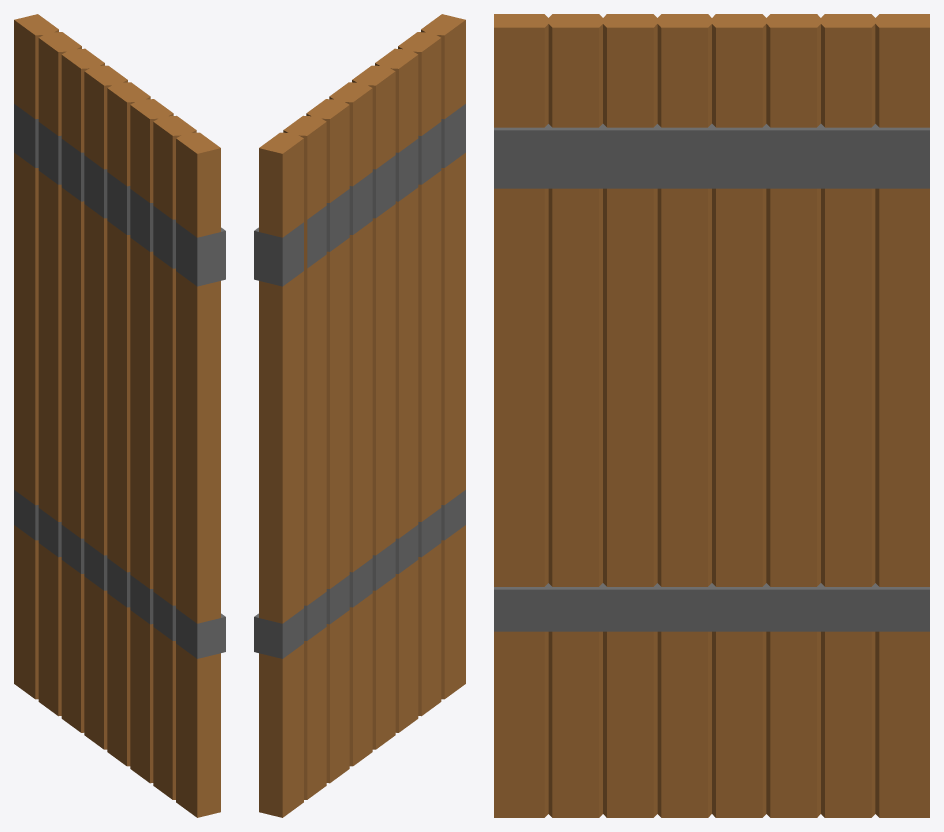
File: OldDoor.fbx
The picture shows the model from 3 angles, left to right: view 1: azimuth 30°, elevation 25°; view 2: azimuth 150°, elevation 25°; view 3: azimuth 270°, elevation 25°; orthographic projection. The views are drawn at different scales.
Visible parts, largest first — view 1: dood old; view 2: dood old; view 3: dood old.
Boxes of the visible parts, left/top/right/bottom form: dood old: left=14, top=14, right=225, bottom=817; dood old: left=254, top=14, right=465, bottom=817; dood old: left=494, top=14, right=929, bottom=817.
Size of the model in its own units: 18 by 400 by 200.
